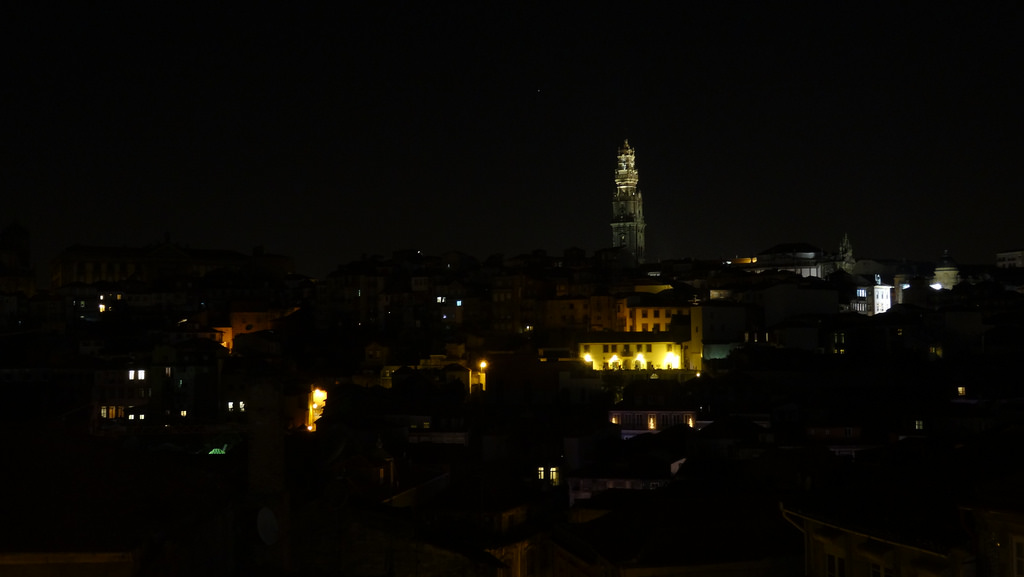clerigos: (604, 132, 647, 253)
